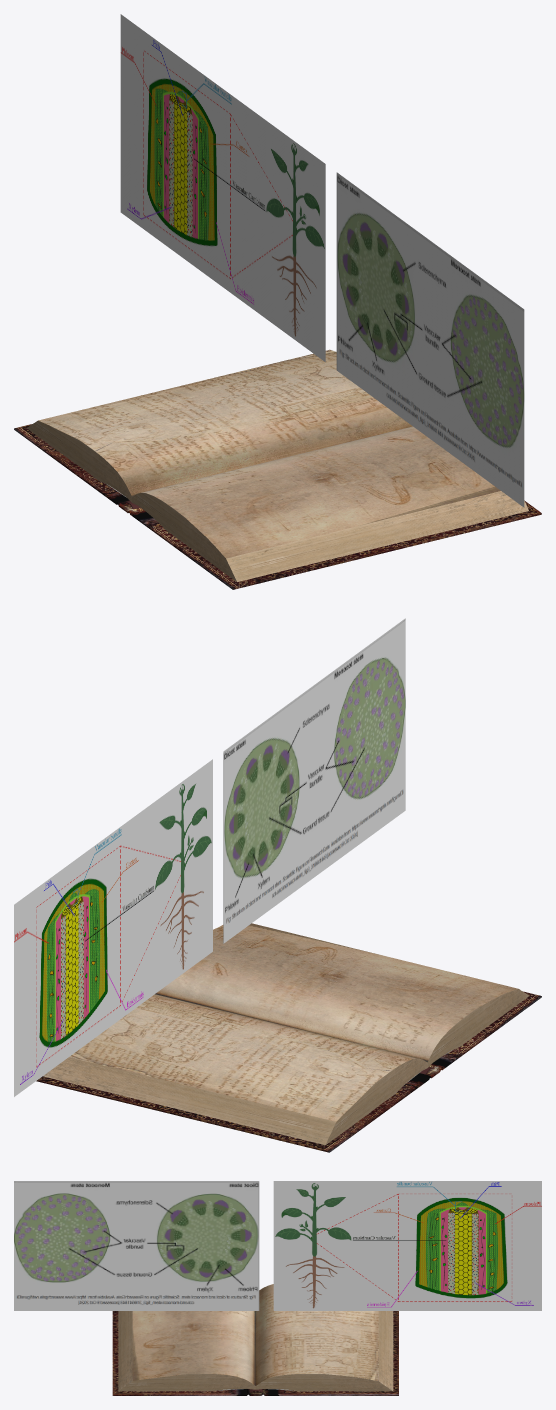
The model's file is stem.glb.
3 renders of one model, top to bottom at view 1: azimuth 30°, elevation 25°; view 2: azimuth 150°, elevation 25°; view 3: azimuth 270°, elevation 25°, orthographic. The views are drawn at different scales.
Visible parts, largest first — view 1: polySurface23, stem_inner_info, steam_inner_info_2, polySurface21; view 2: polySurface23, stem_inner_info, steam_inner_info_2, polySurface21; view 3: stem_inner_info, steam_inner_info_2, polySurface23, polySurface21.
Boxes of the visible parts, <box> form: polySurface23: <box>27,349,528,581</box>; stem_inner_info: <box>120,14,325,361</box>; steam_inner_info_2: <box>336,172,524,507</box>; polySurface21: <box>14,424,541,589</box>; polySurface23: <box>43,923,528,1145</box>; stem_inner_info: <box>14,759,212,1096</box>; steam_inner_info_2: <box>223,618,405,943</box>; polySurface21: <box>36,991,541,1152</box>; stem_inner_info: <box>273,1181,541,1310</box>; steam_inner_info_2: <box>14,1181,259,1310</box>; polySurface23: <box>118,1284,393,1391</box>; polySurface21: <box>112,1311,398,1395</box>.
Size of the model in its own units: 2.08 by 1.82 by 4.71.
Materials: 7 (5 with a texture image).
